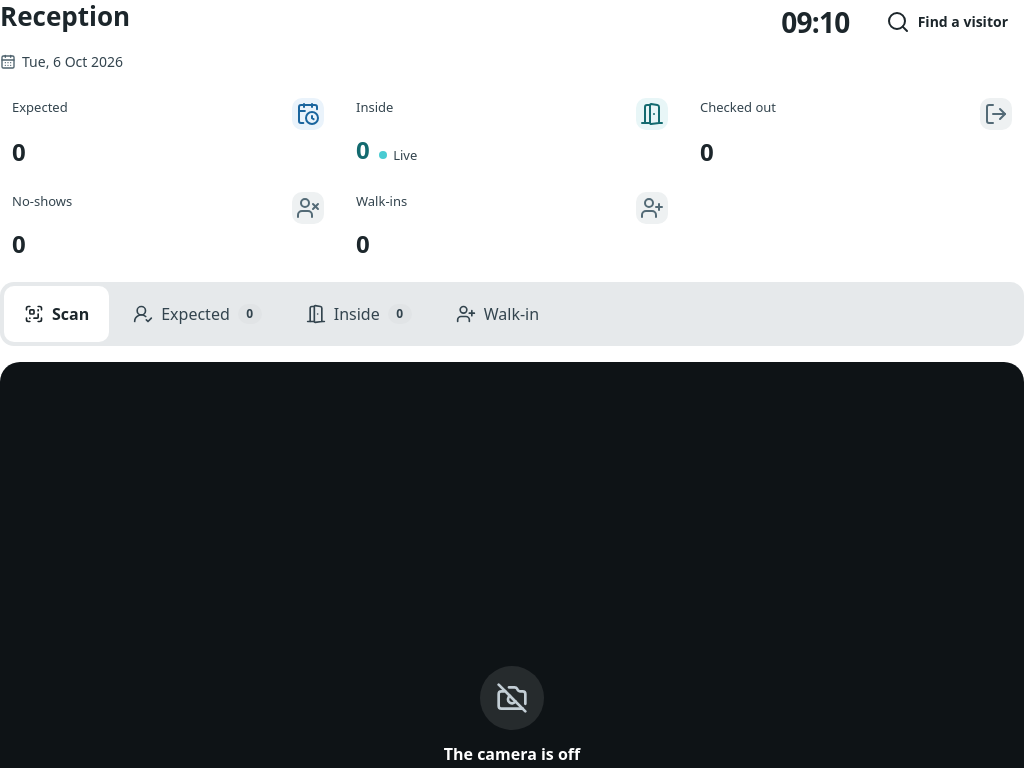
Test: Find a visitor › shows at most five results at first, the rest behind "Show all"
The width and height of the screenshot is (1024, 768).
Click the button "Find a visitor" at (947, 22), box [870,0,1023,44]
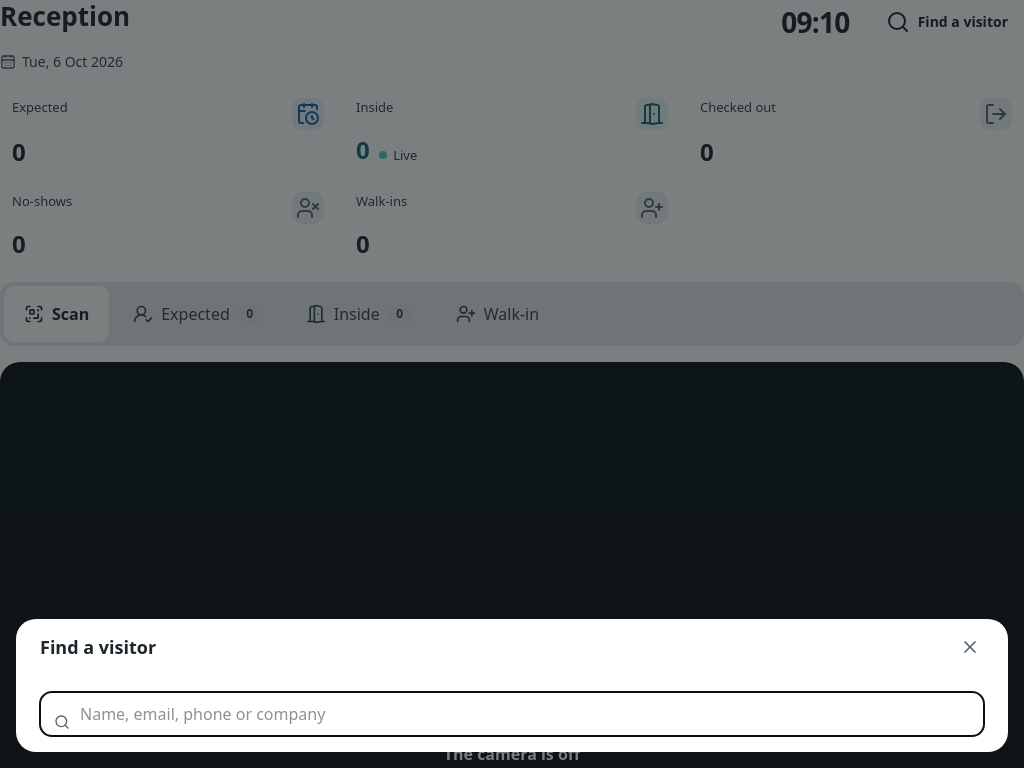
Type "qq" into the search field named "Find a visitor" at (512, 714), box [40,692,984,736]
(page scrolled)
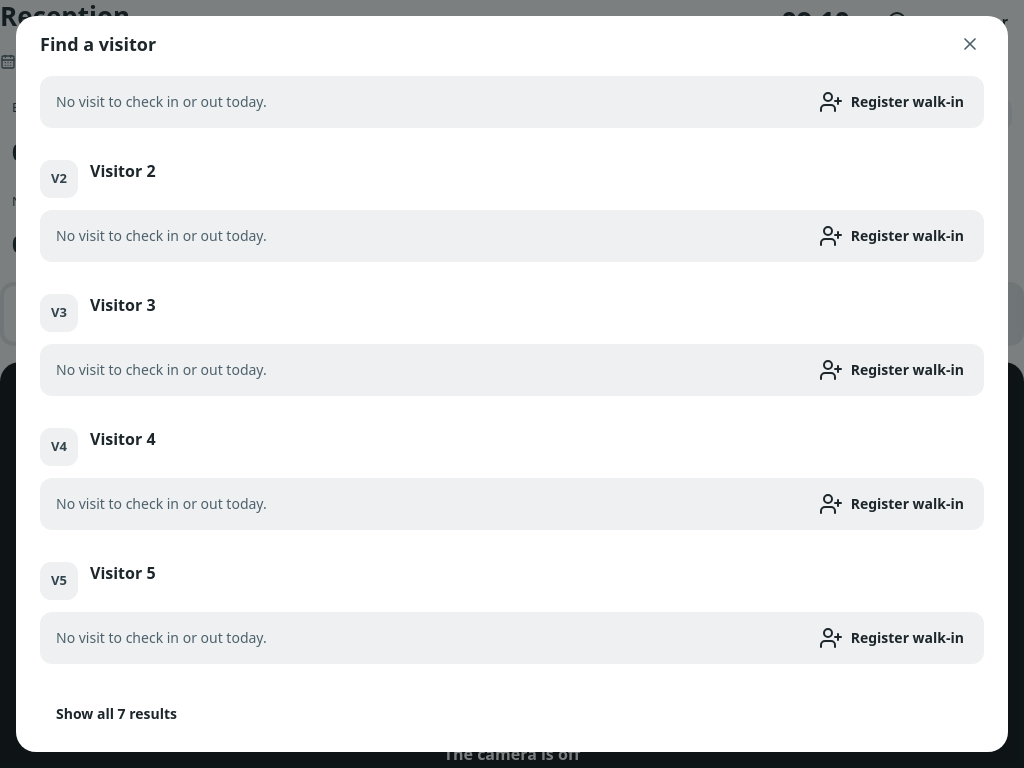
expect the text "Visitor 6" is not shown: met
expect the text "Visitor 5" is shown: met, box [90,562,156,584]
Click the button "Show all 7 results" at (116, 714), box [40,692,193,736]
(page scrolled)
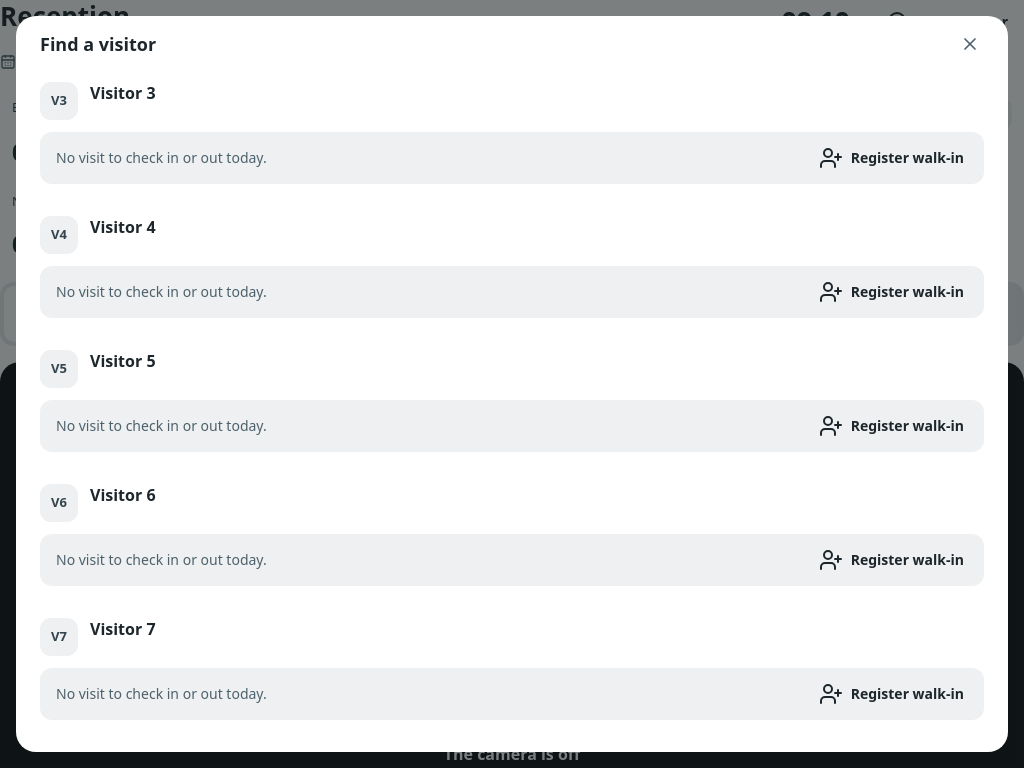
expect the text "Visitor 7" is shown: met, box [90,618,156,640]
